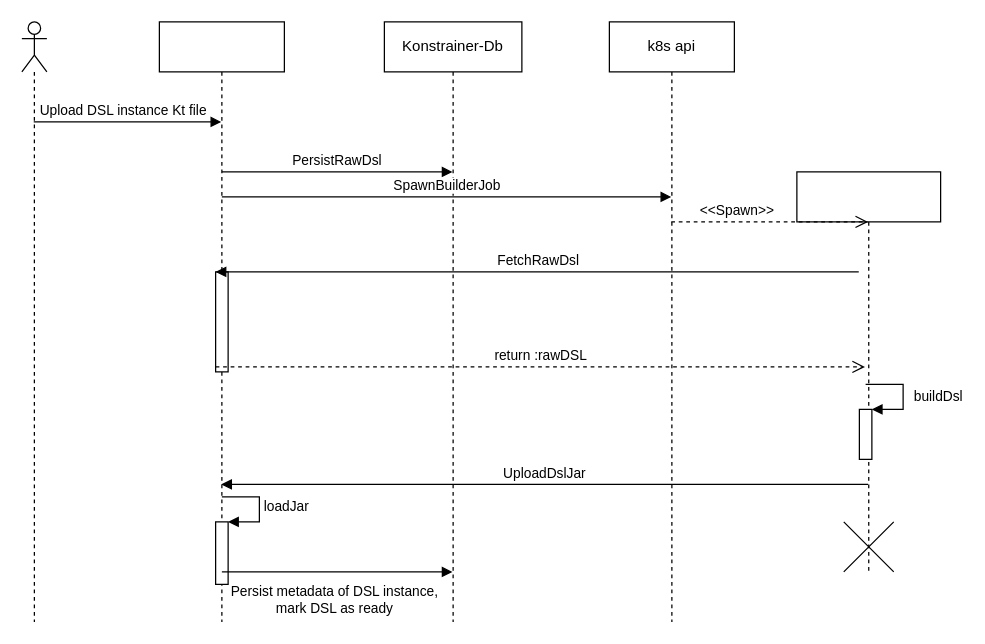
Some shapes in this 985 by 644 pixel diagram are drawn without their labels. The shapes that lost their labels are listed below. From the top down, each one's box as (x1, y1, x2, y2) in pixels, then its label:
(158, 21, 284, 622): KonstrainR-Core
(796, 171, 941, 572): Konstrainer-Builder
